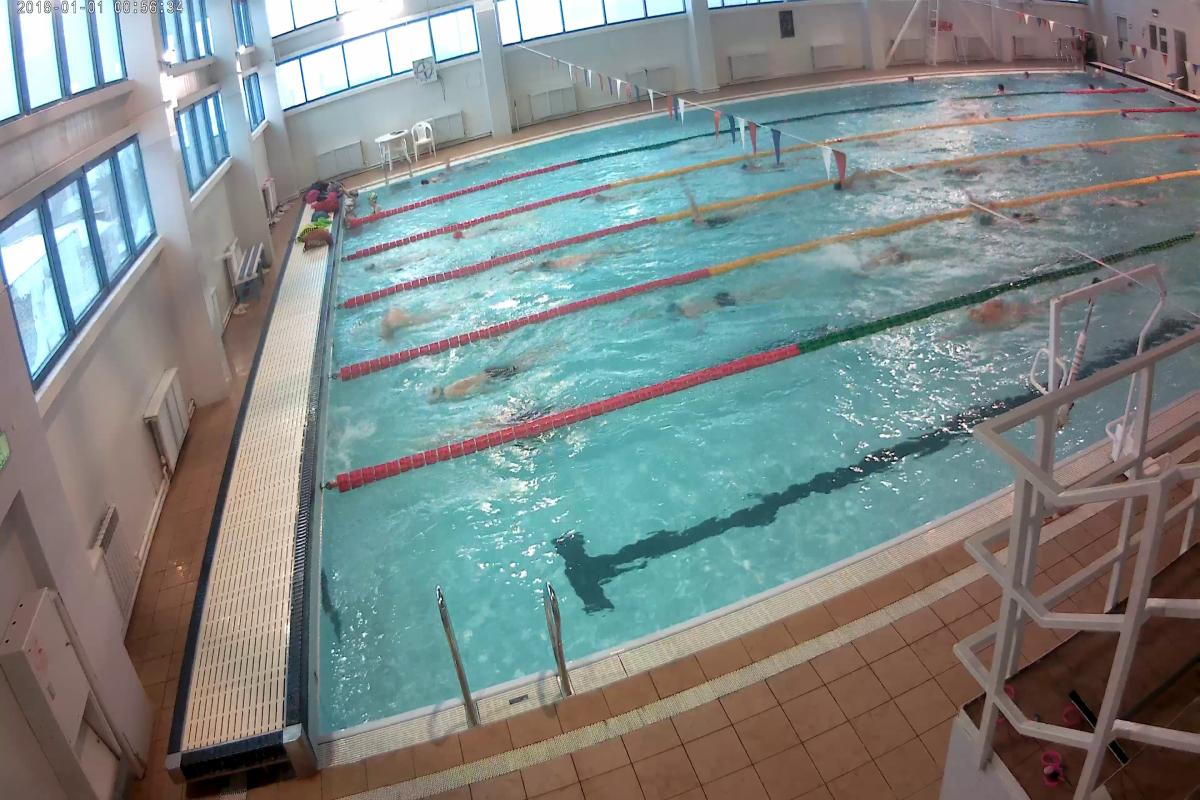swimmer: (421, 345, 578, 409), (657, 283, 774, 326), (949, 291, 1029, 345), (518, 243, 614, 283), (373, 304, 453, 342), (688, 204, 756, 238), (860, 244, 918, 275), (1095, 192, 1173, 214), (980, 211, 1042, 237), (826, 174, 882, 202), (738, 154, 806, 176), (448, 225, 502, 247), (582, 191, 636, 209), (944, 166, 980, 180), (1018, 153, 1055, 166)
